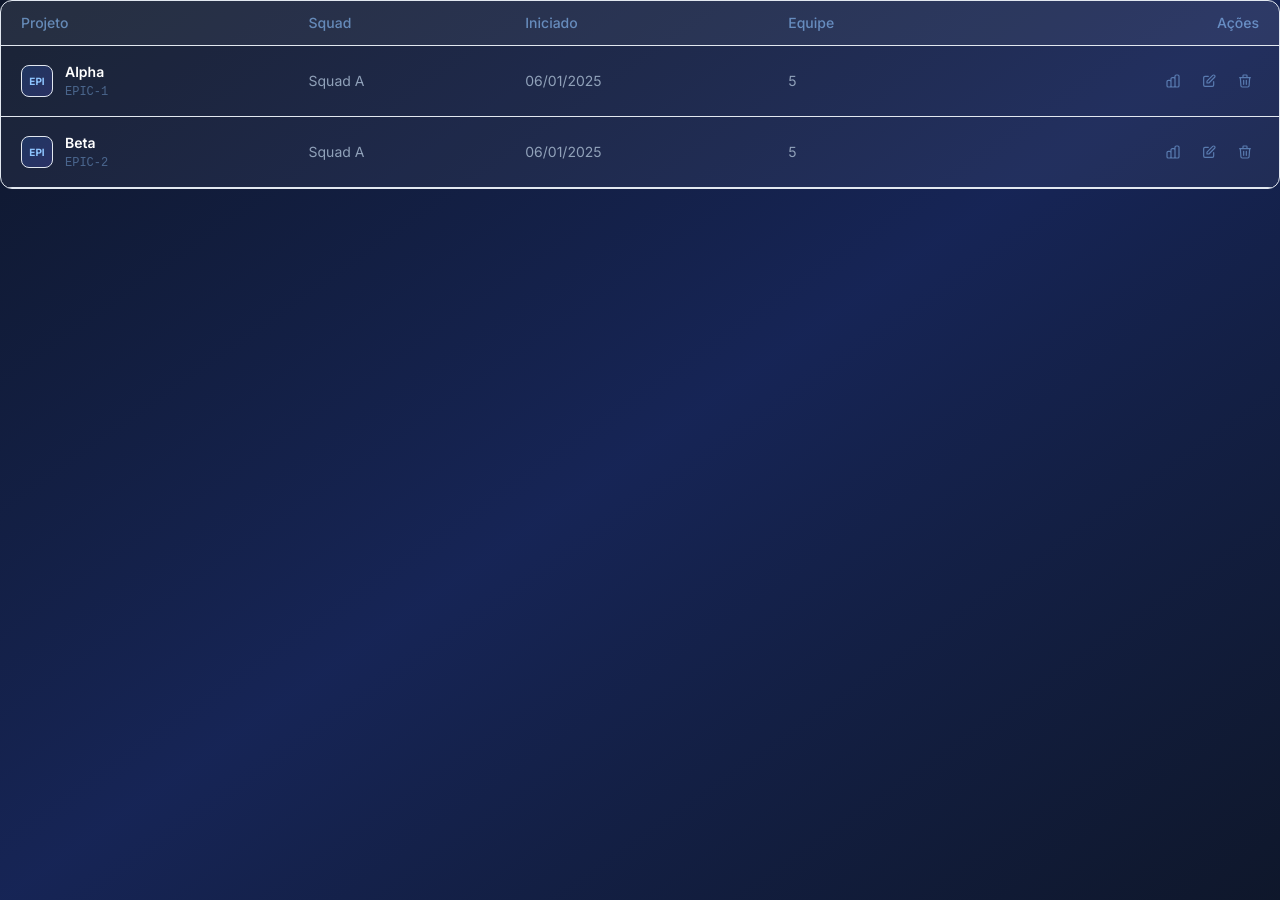
ProjectListClient — with projects › removes project from list after confirmed delete
The image size is (1280, 900).
Click the button with id "delete-project-1" at (1245, 81), box [1231,67,1259,95]
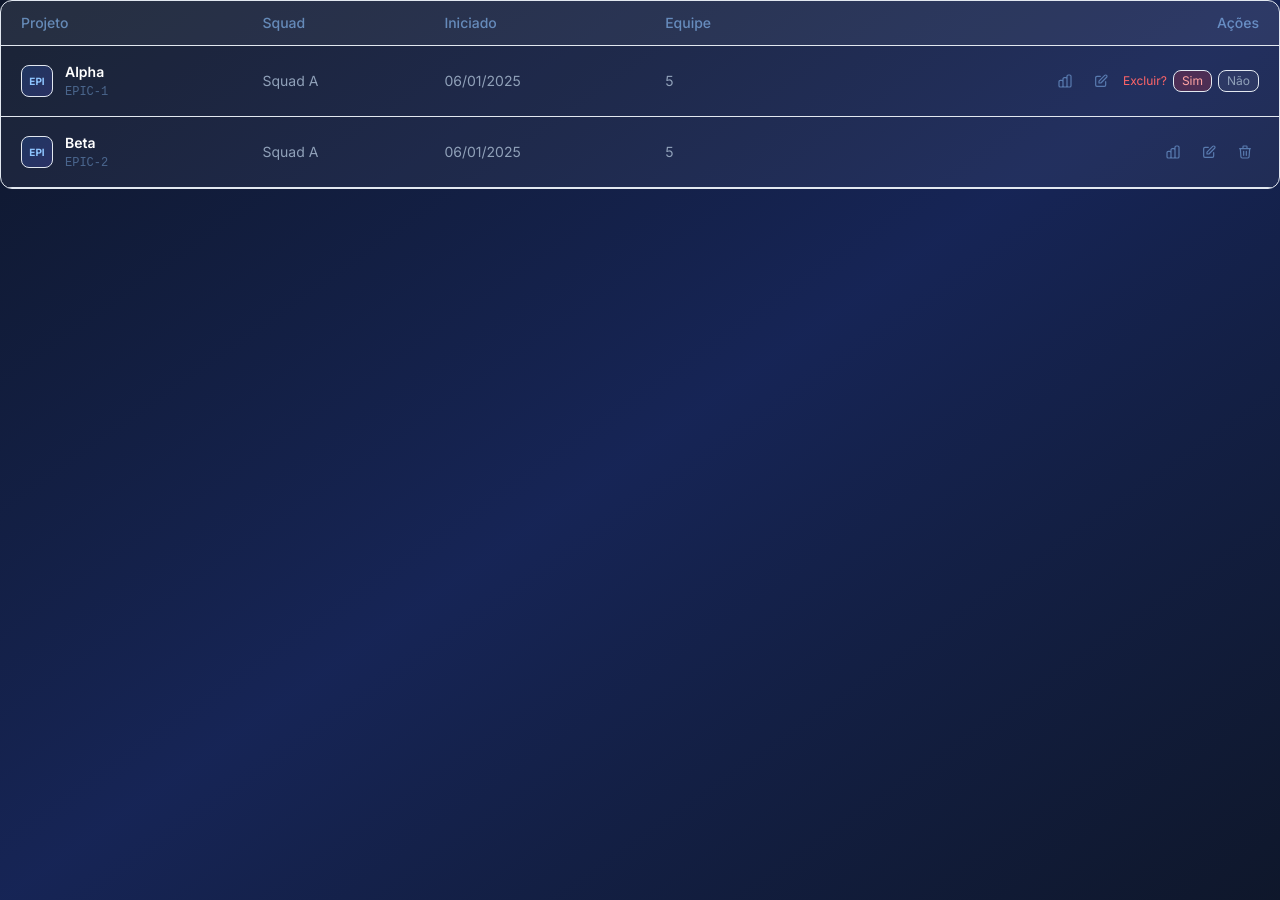
Click the button with id "confirm-delete-1" at (1192, 81), box [1173,70,1212,92]
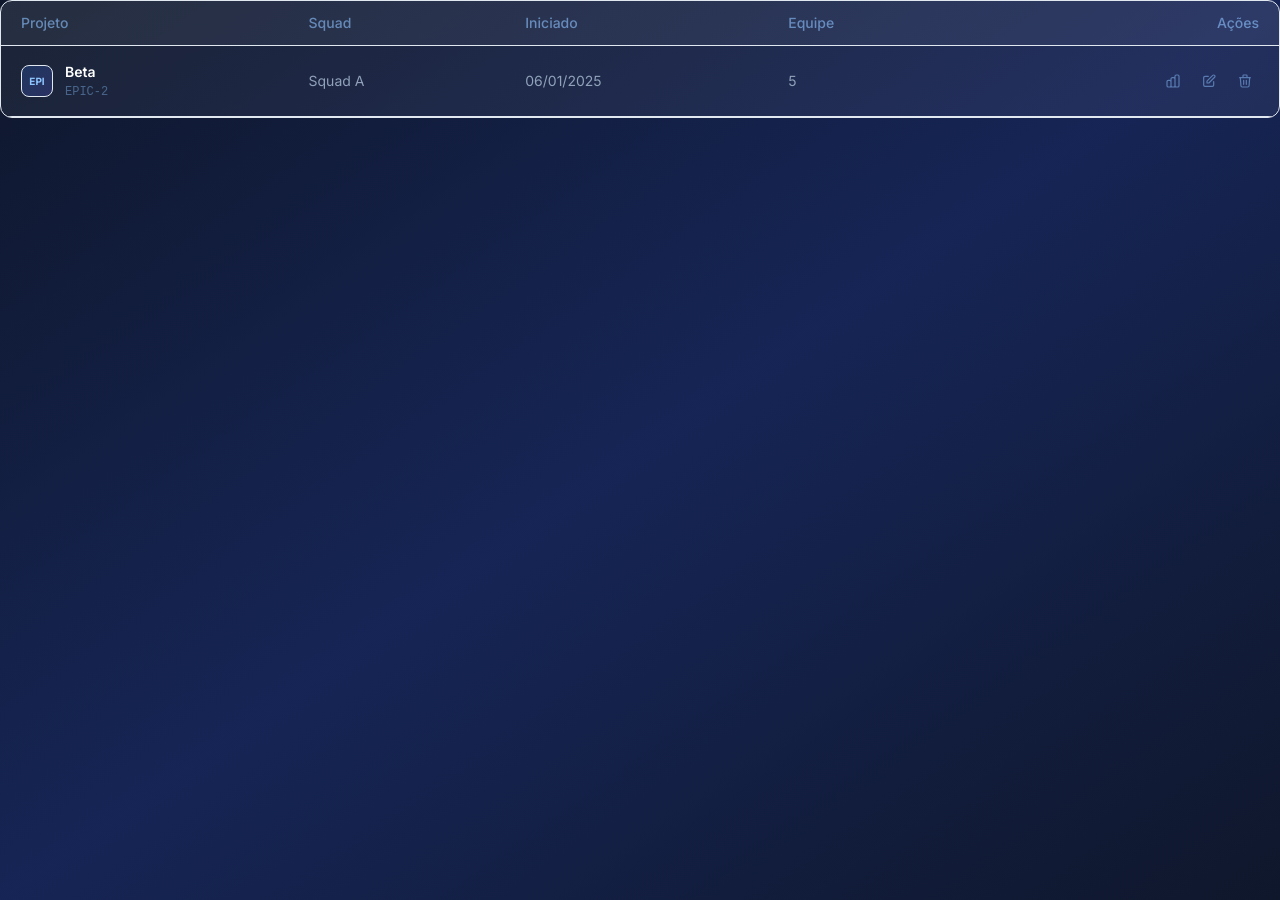
Check: the button "Beta" is shown, box [65,62,96,82]
Check: the button "Alpha" is gone
